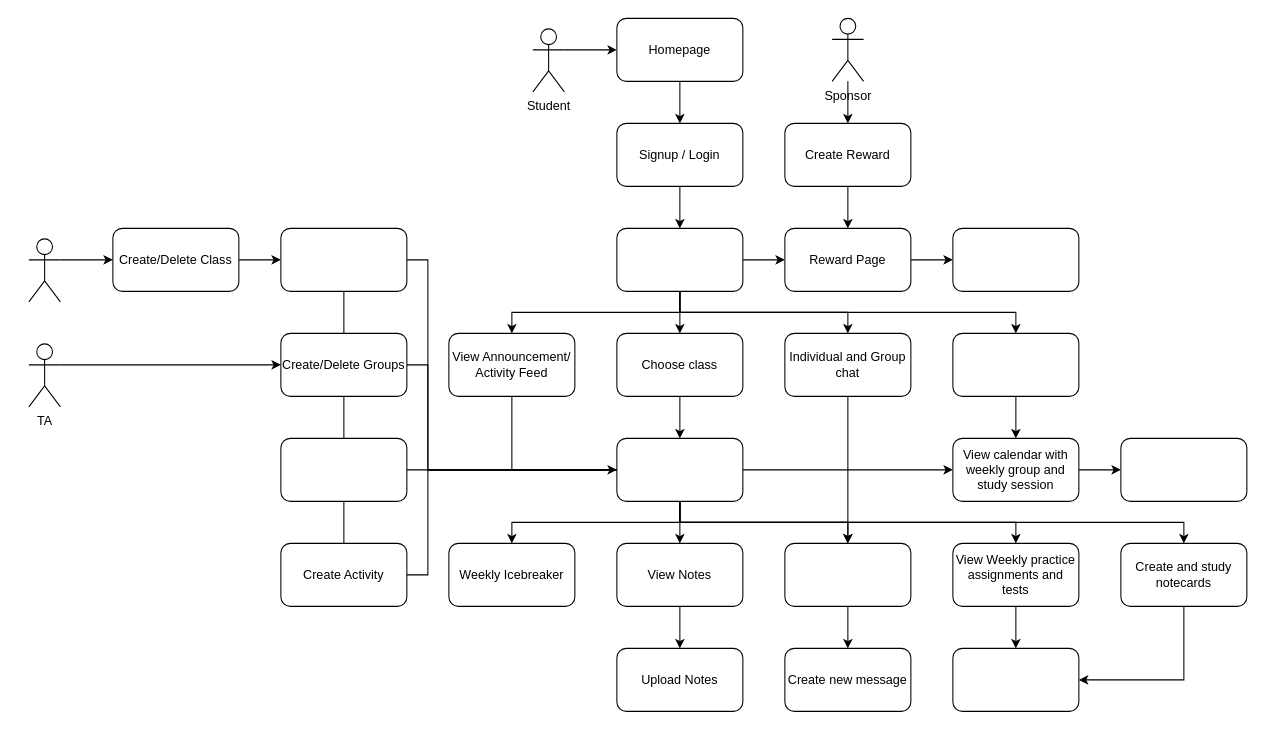
Some shapes in this 1265 by 730 pixel diagram are drawn without their labels. Each missing label, with the box of its shape:
Calender: (952, 332, 1079, 396)
Class Homepage: (616, 437, 743, 501)
Create Event: (280, 437, 407, 501)
Create study session: (1120, 437, 1247, 501)
Create Weekly practice assignments and tests: (952, 647, 1079, 711)
Create/Delete Announcement: (280, 227, 407, 291)
Homepage with all classes: (616, 227, 743, 291)
Professor: (28, 238, 60, 302)
Redeem Reward: (952, 227, 1079, 291)
View class, group and private messages: (784, 542, 911, 606)
